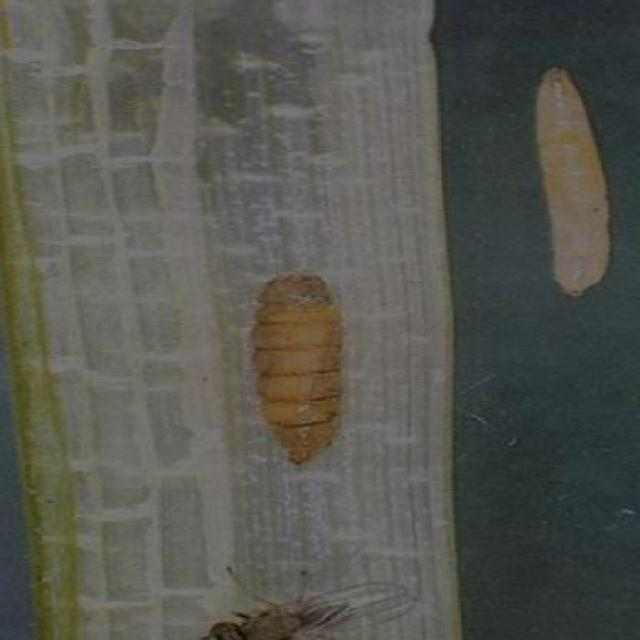whorl-maggot: (509, 53, 640, 304), (234, 263, 389, 472)
